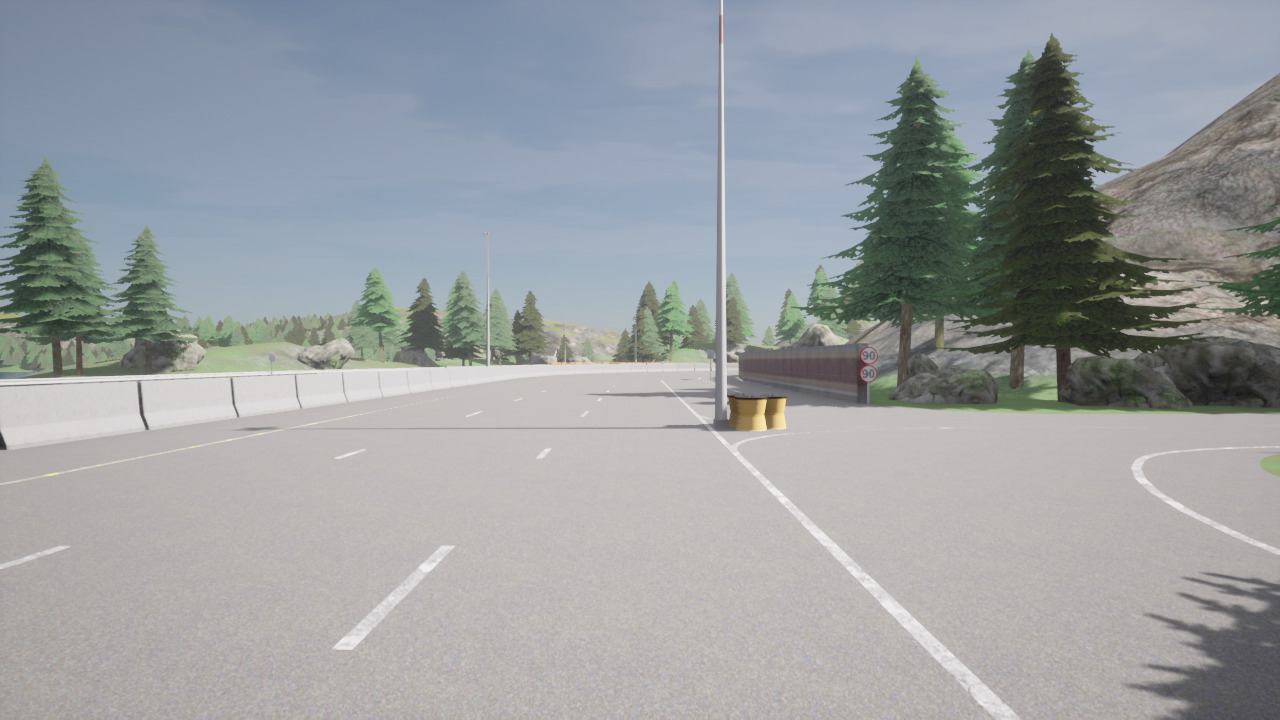sl90: (859, 346, 879, 365), (858, 364, 878, 383)
